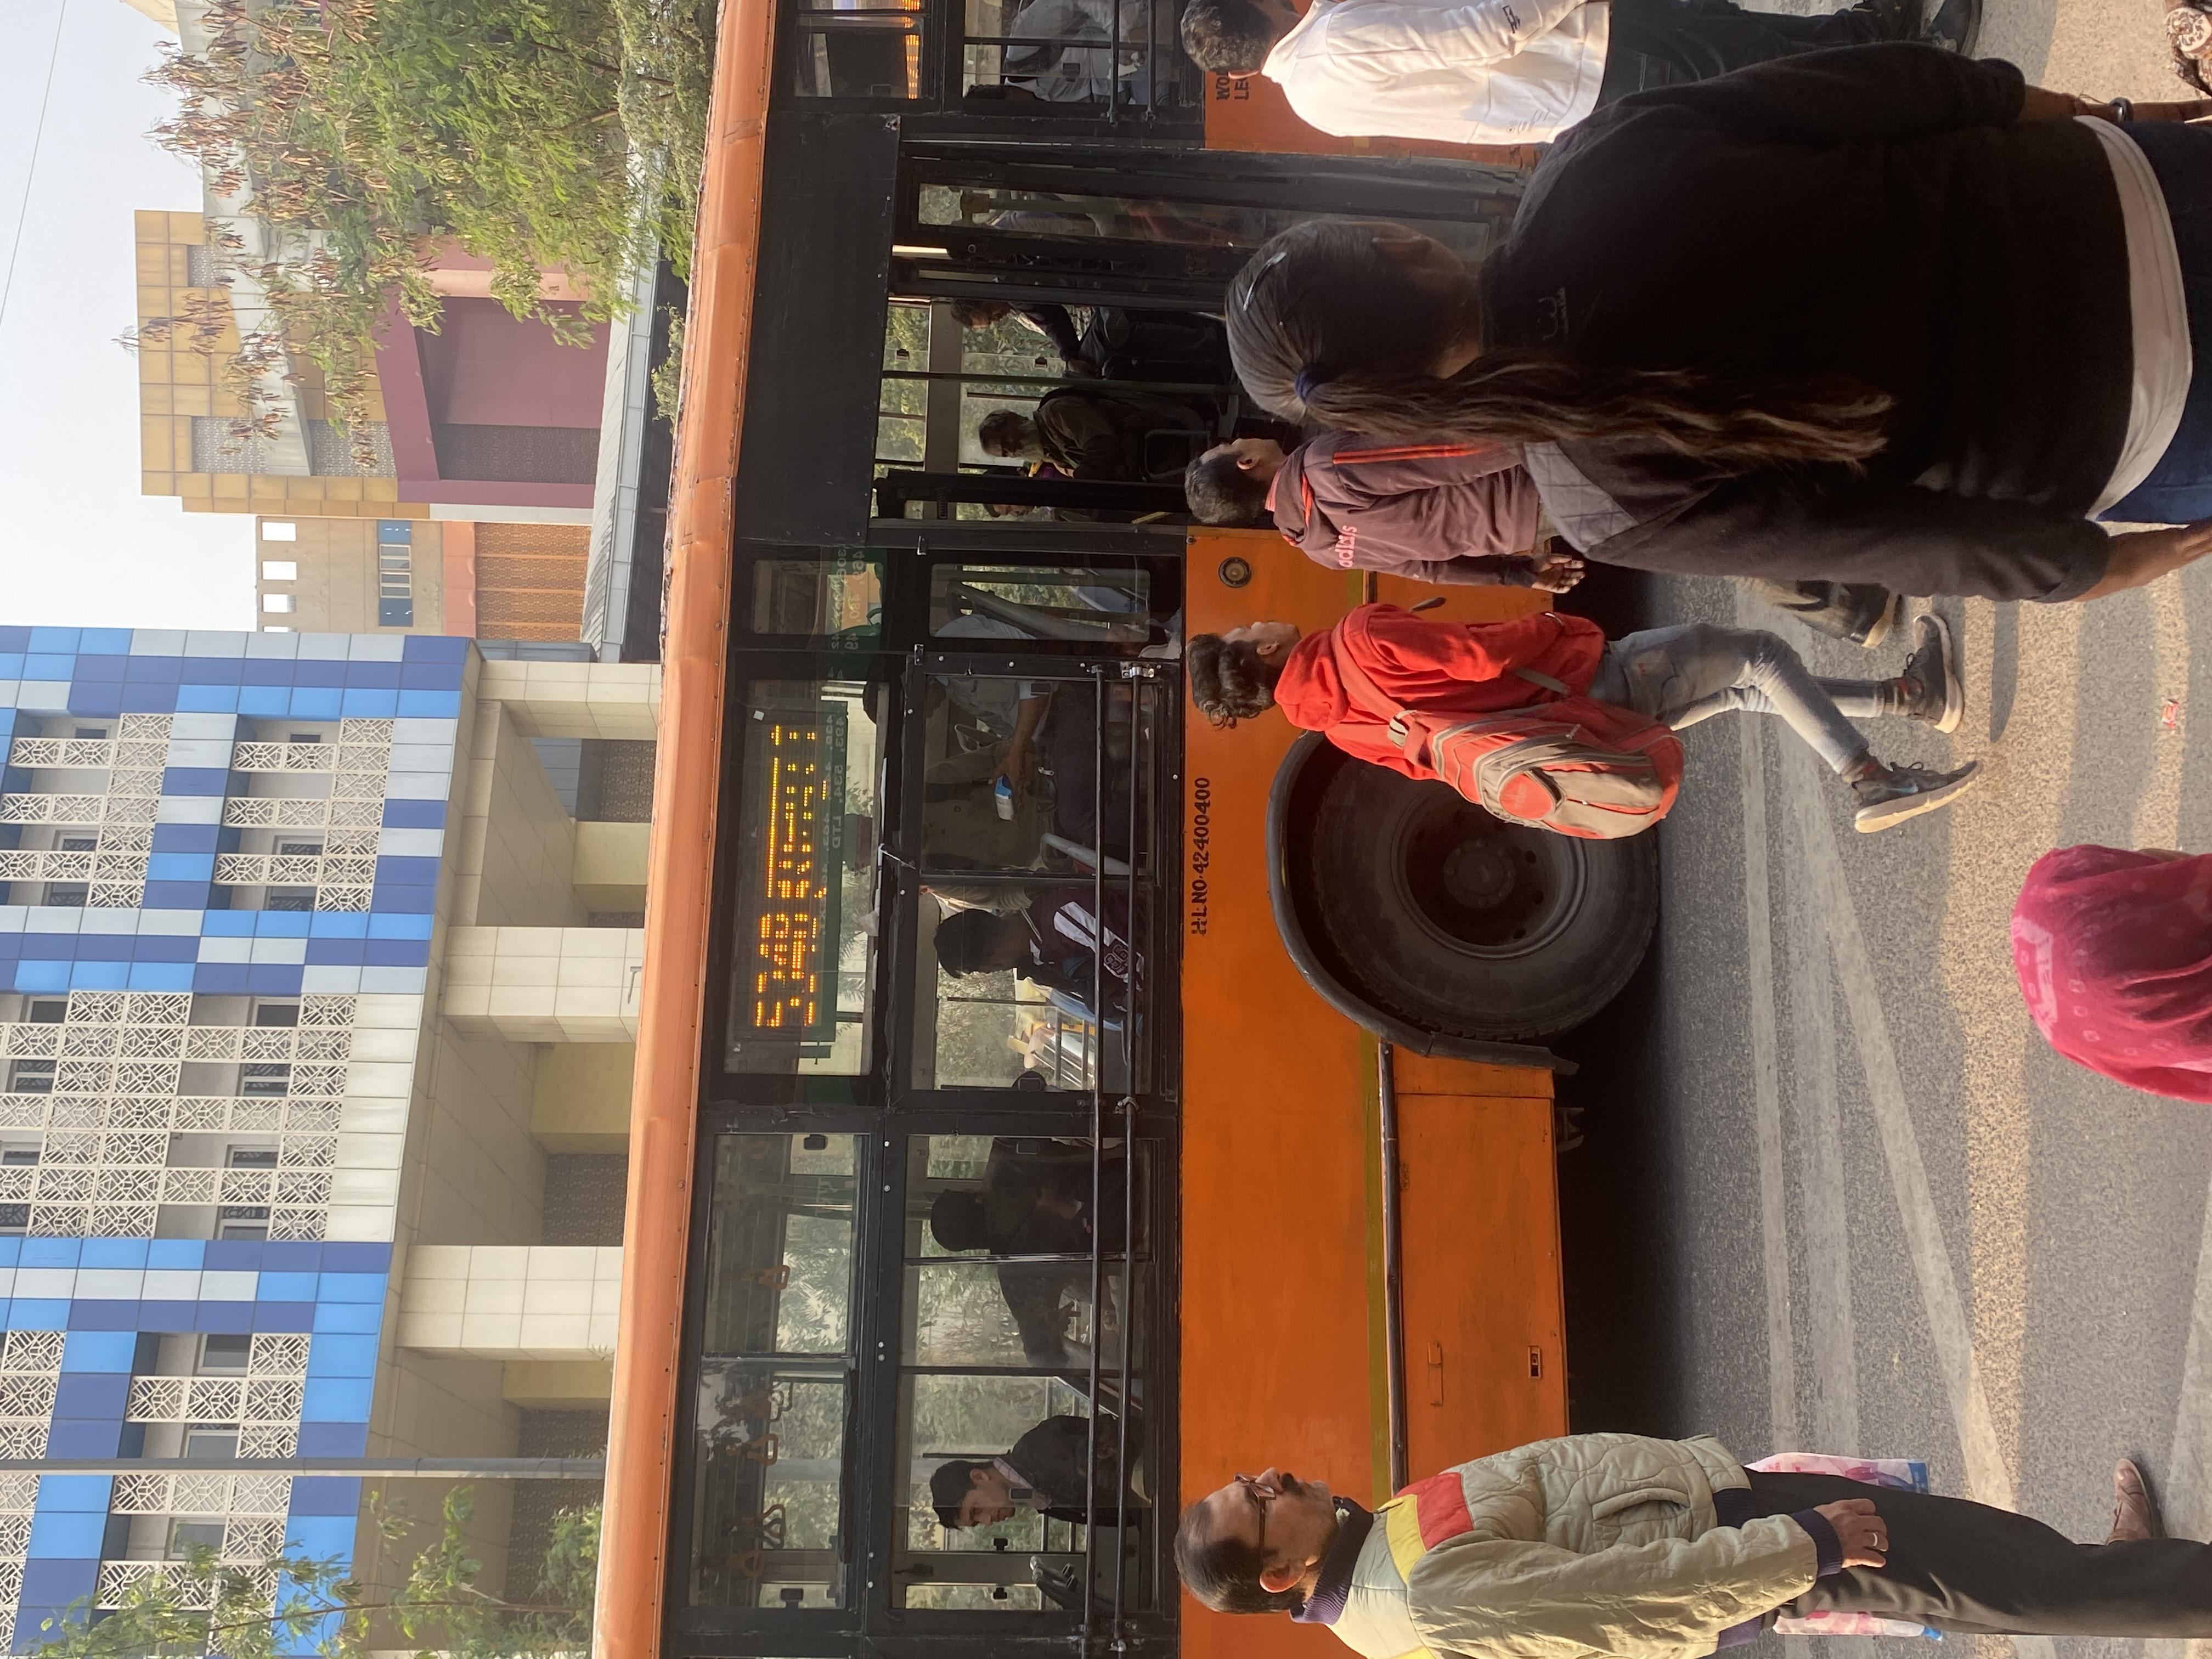Bus: (577, 7, 1730, 1626)
Display Board: (702, 669, 911, 1098)
